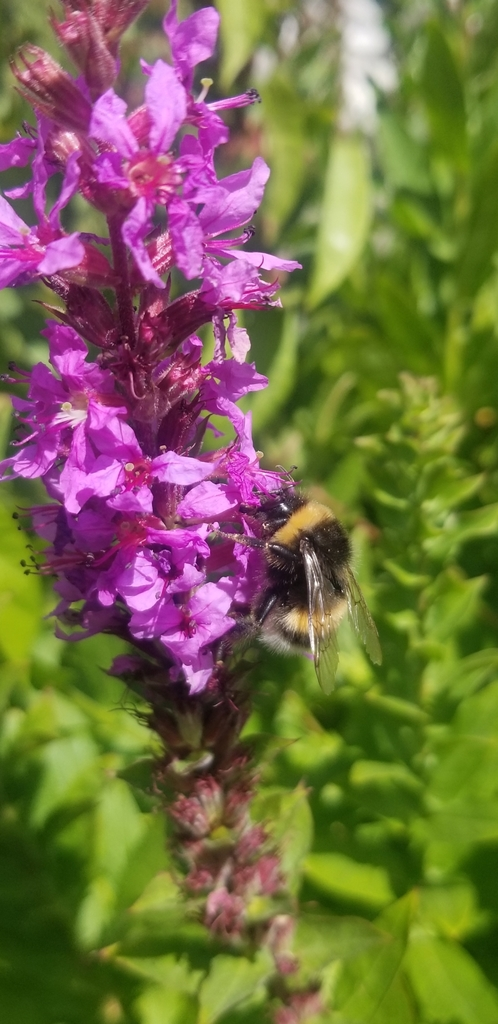bumblebee: (211, 481, 388, 696)
